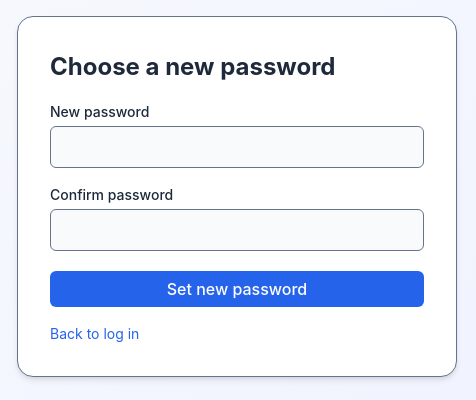
Scenario: ResetPasswordPage › sends uid, token, new_password and new_password_confirm, then confirms success
The width and height of the screenshot is (476, 400).
Type "new-pw-123" into the password field labelled "New password" at (237, 147), box x1=50 y1=126 x2=424 y2=168
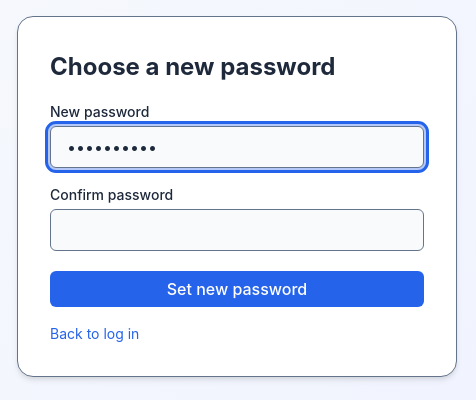
Type "new-pw-123" into the password field labelled "Confirm password" at (237, 230), box x1=50 y1=209 x2=424 y2=251
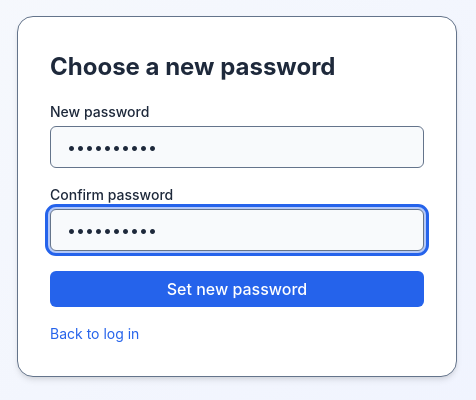
Click the button "Set new password" at (237, 289), box x1=50 y1=271 x2=424 y2=307
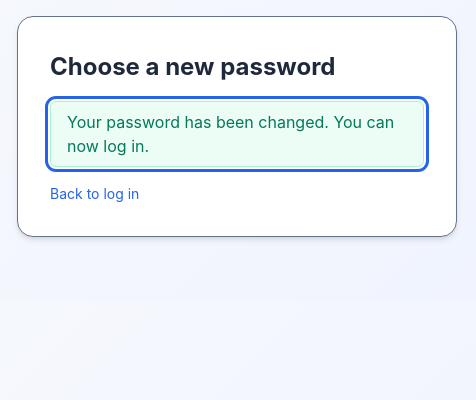
Check: the message reads "Your password has been changed. You can now log in.", box x1=67 y1=112 x2=394 y2=156
